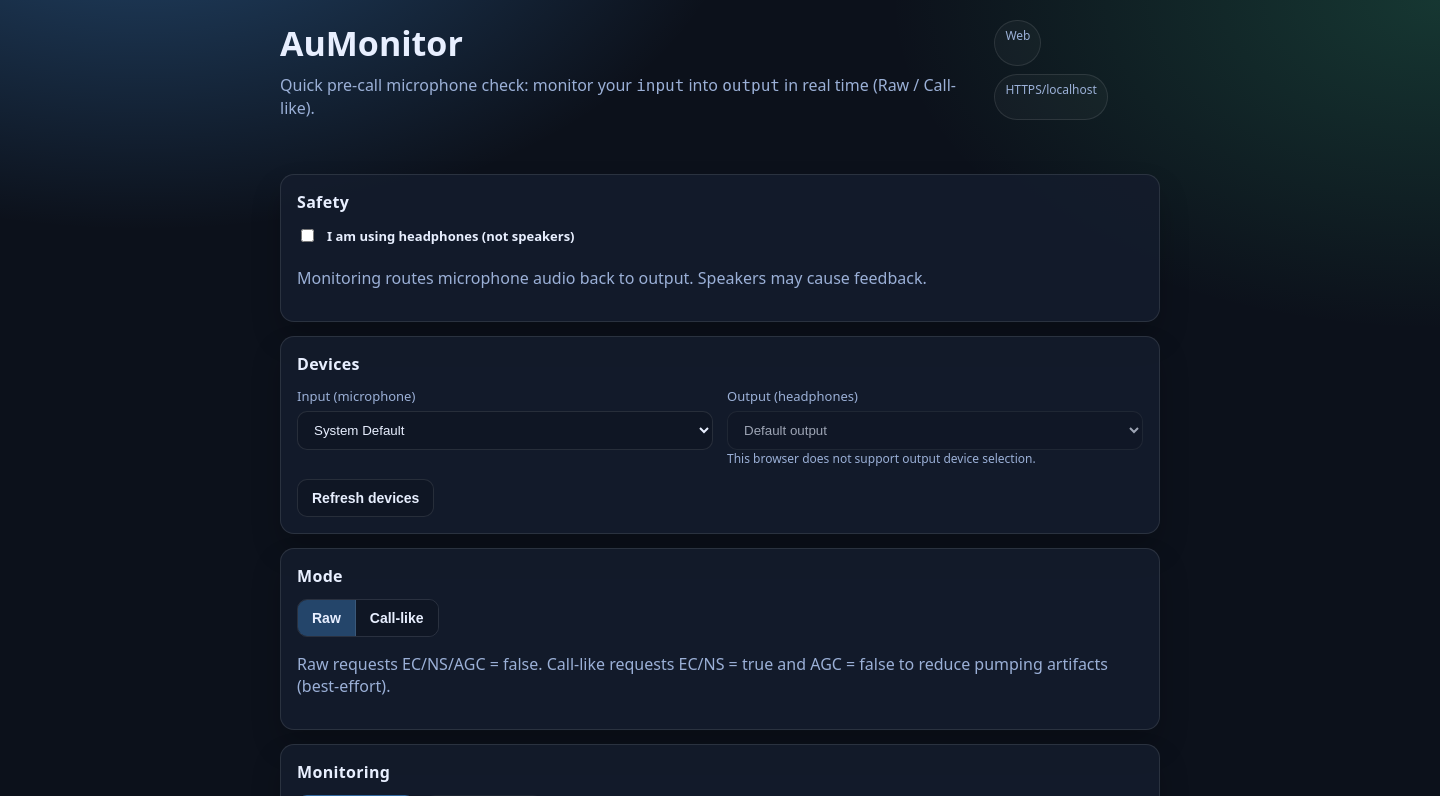
Test: App › keeps Start disabled until headphones confirmation
Click the checkbox labelled "I am using headphones (not speakers)": (308, 236) left=301, top=229, right=314, bottom=242
(page scrolled)
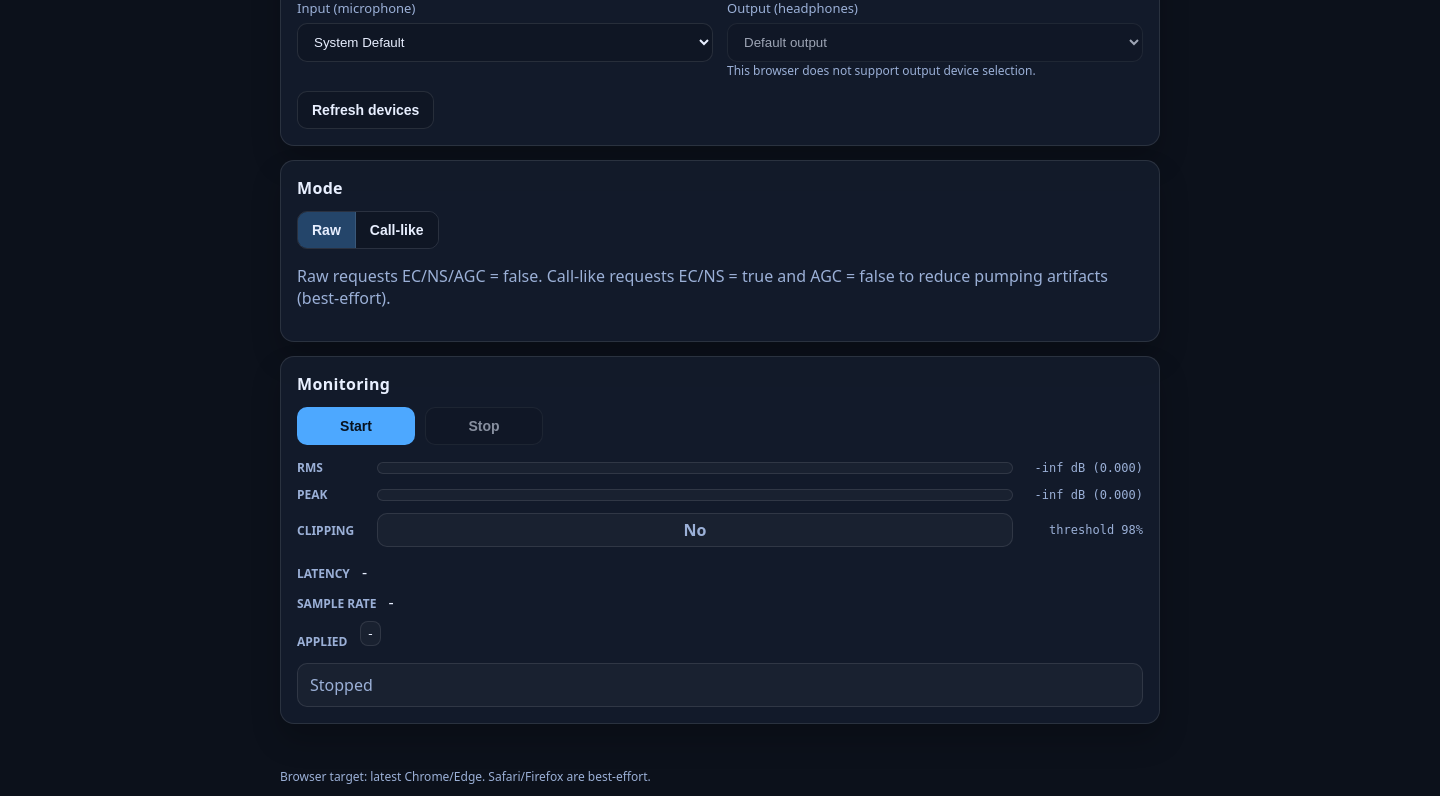
Now the button "Start" is enabled, box left=297, top=407, right=415, bottom=445
